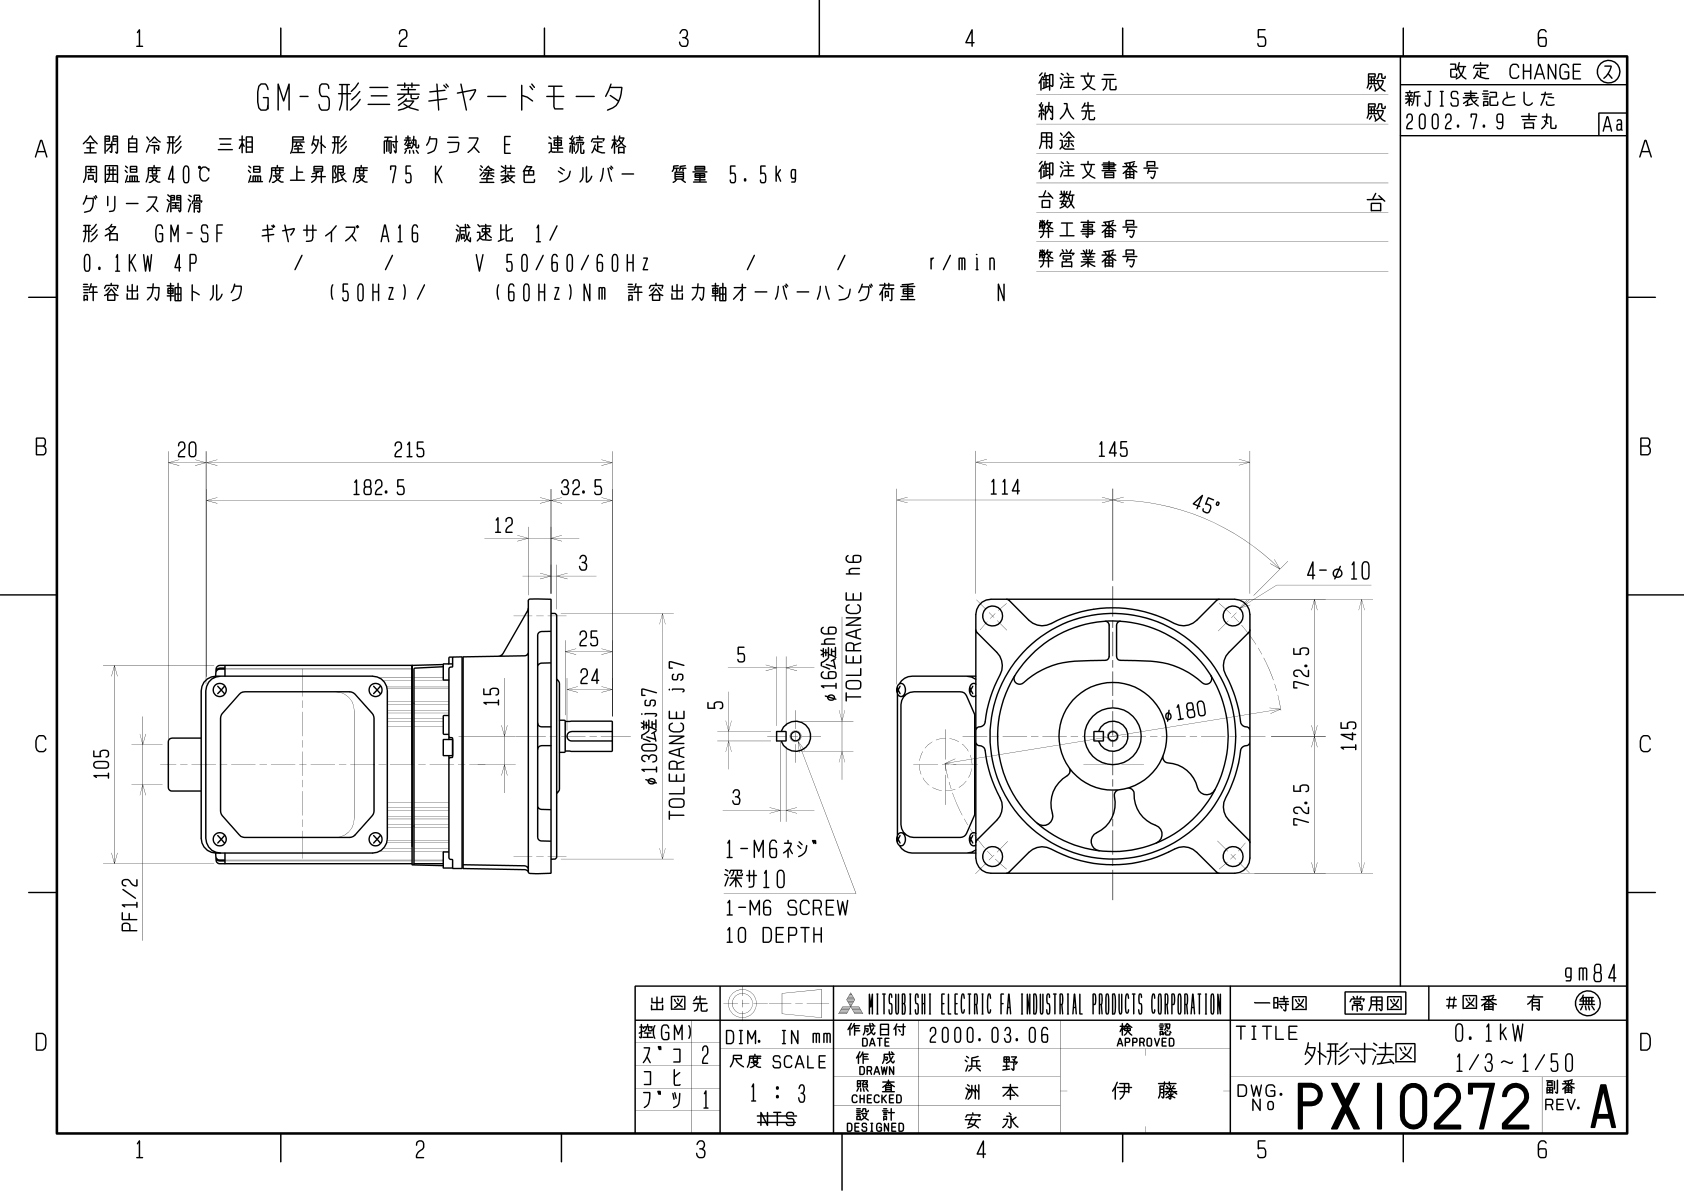GM_S_屋外＿三相_フランジ: (73, 402, 1386, 967)
